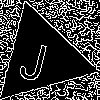J: (16, 32, 53, 84)
